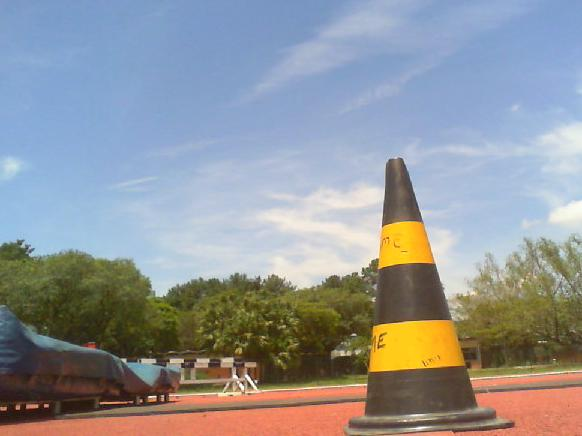0 cone: (341, 156, 515, 436)
